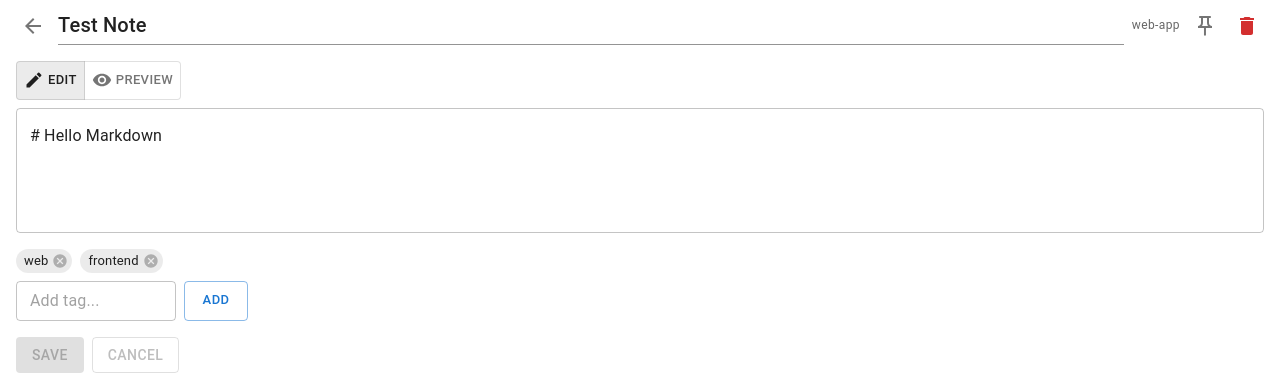
Scenario: NoteEditor › switches to preview mode and hides the text field
Click the button "Preview" at x=132, y=80, box top-left (84, 61), bottom-right (181, 100)
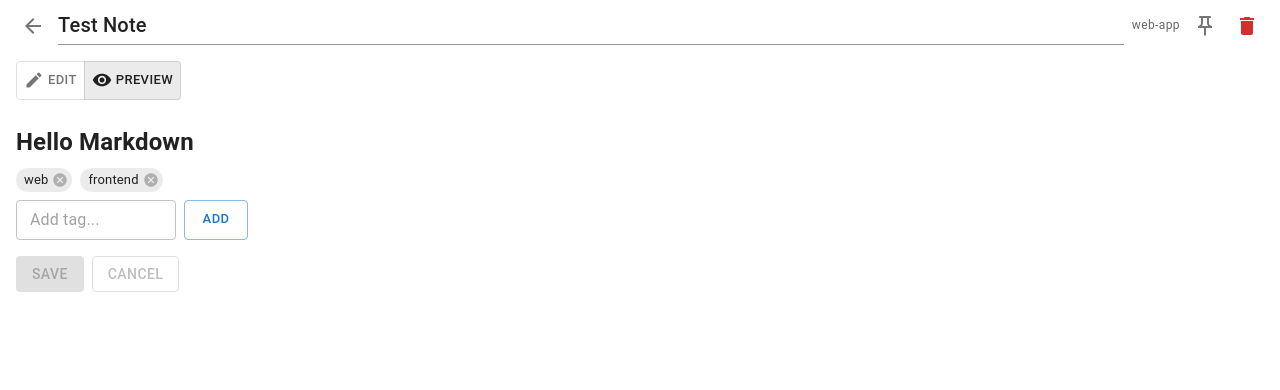
Now the heading reads "Hello Markdown", box top-left (16, 128), bottom-right (194, 156)
